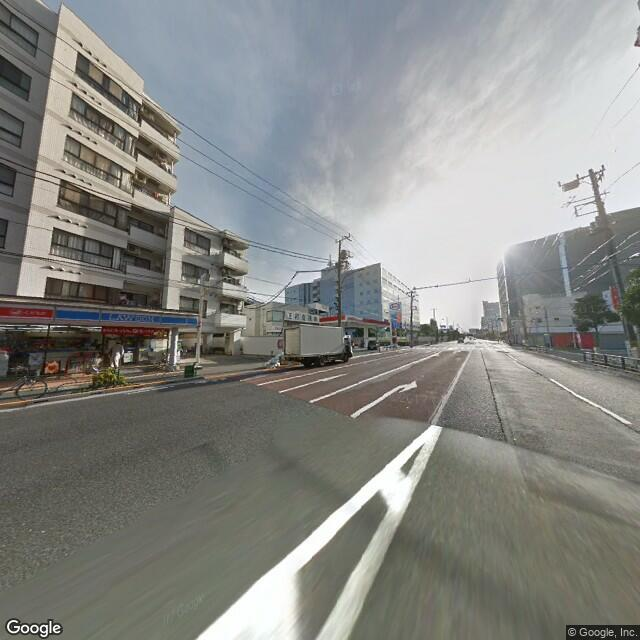lawson: (54, 301, 199, 331)
